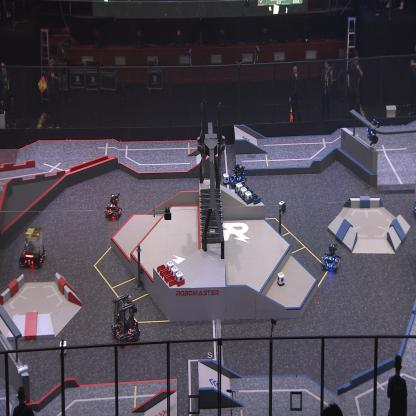car: (111, 293, 141, 345), (18, 226, 47, 270), (320, 242, 341, 272), (227, 161, 247, 188), (105, 191, 123, 220), (410, 175, 416, 216)
